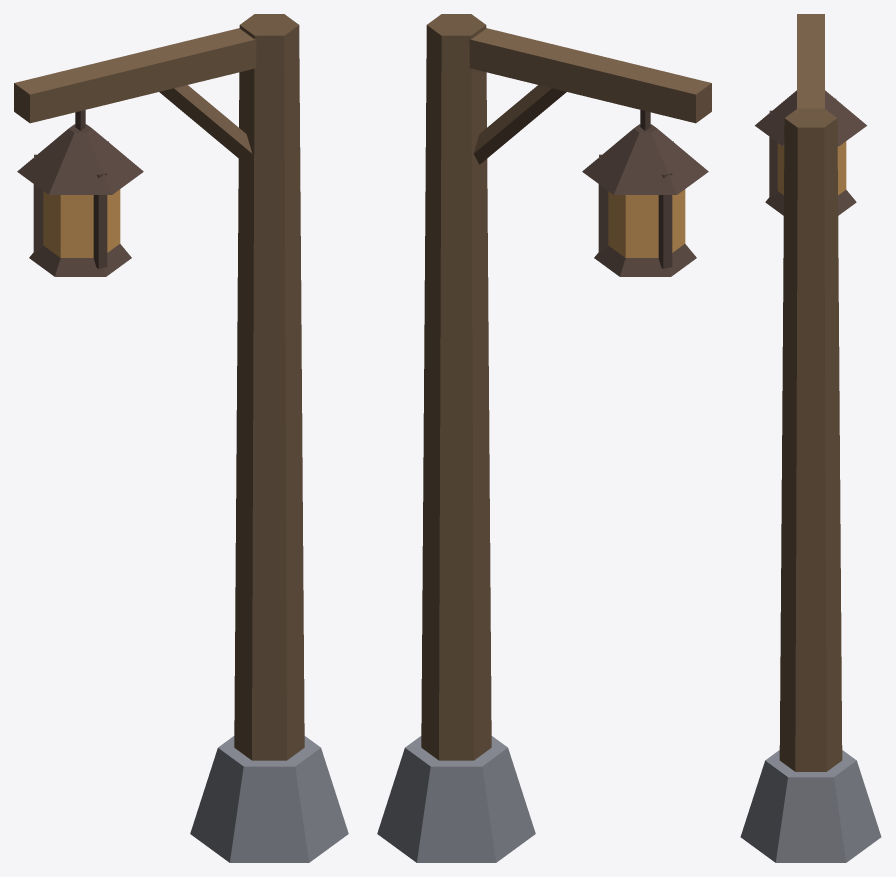
File: lamp.glb
The picture shows the model from 3 angles, left to right: view 1: azimuth 30°, elevation 25°; view 2: azimuth 150°, elevation 25°; view 3: azimuth 270°, elevation 25°; orthographic projection. The views are drawn at different scales.
Parts seen in each view (by area): view 1: lamp; view 2: lamp; view 3: lamp.
Boxes of the visible parts, x1,y1,x2,y2 form: lamp: [14, 14, 348, 862]; lamp: [377, 14, 711, 862]; lamp: [740, 14, 881, 862].
Bounding box in the file's own units: 0.8932 × 2.25 × 0.4.
